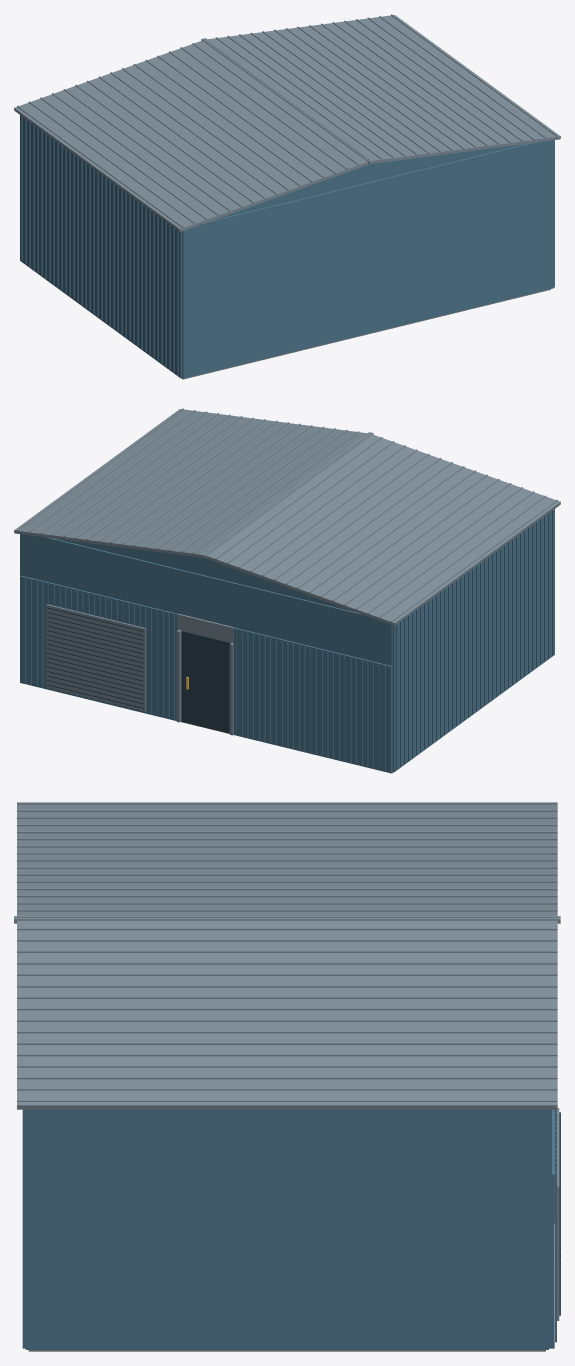
Rendered from warehouse.glb.
3 views of the same model, one above another, from view 1: azimuth 30°, elevation 25°; view 2: azimuth 150°, elevation 25°; view 3: azimuth 270°, elevation 25° (orthographic). The views are drawn at different scales.
Parts seen in each view (by area): view 1: shell blue powder-coated steel, shell steel trim, warehouse floor; view 2: shell steel trim, shell blue powder-coated steel, working warehouse door, shell dark blue door; view 3: shell steel trim, shell blue powder-coated steel, warehouse floor.
Part boxes in pixels (x1=…): shell blue powder-coated steel: x1=20, y1=115, x2=554, y2=378; shell steel trim: x1=14, y1=14, x2=560, y2=231; warehouse floor: x1=181, y1=289, x2=550, y2=379; shell steel trim: x1=14, y1=408, x2=560, y2=735; shell blue powder-coated steel: x1=20, y1=509, x2=554, y2=773; working warehouse door: x1=181, y1=630, x2=231, y2=733; shell dark blue door: x1=47, y1=607, x2=143, y2=708; shell steel trim: x1=14, y1=802, x2=560, y2=1320; shell blue powder-coated steel: x1=22, y1=1109, x2=556, y2=1349; warehouse floor: x1=28, y1=1350, x2=545, y2=1351.
Size of the model in its own units: 12.32 by 5.47 by 9.41.
